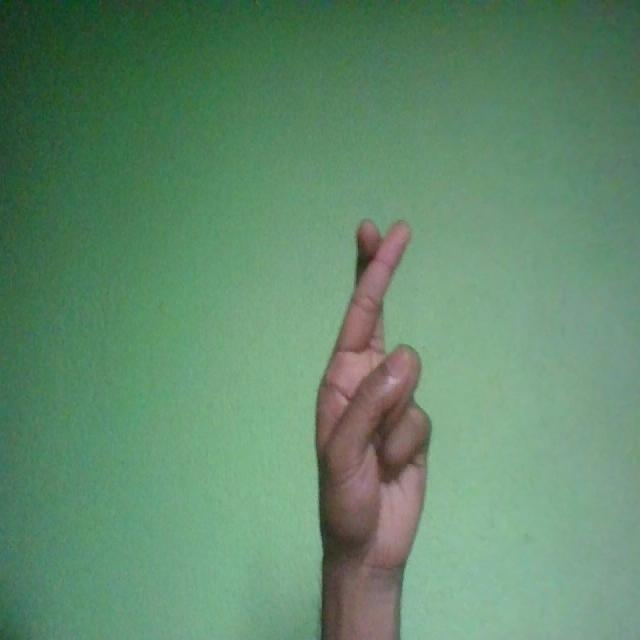Ok: (316, 218, 432, 580)
